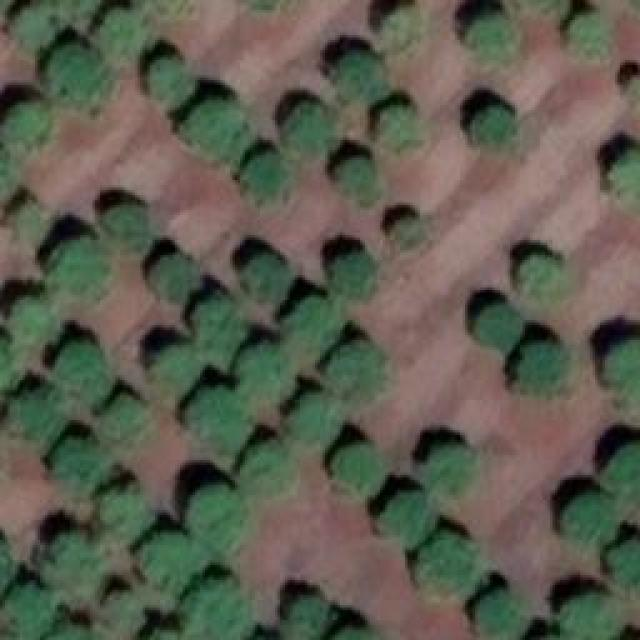Tree: (180, 100, 245, 163), (48, 43, 111, 106), (188, 575, 248, 640), (185, 485, 245, 548), (50, 235, 108, 300), (412, 538, 480, 593), (193, 298, 246, 368), (145, 533, 208, 586), (508, 343, 573, 393), (45, 530, 105, 583), (192, 393, 250, 446), (563, 493, 618, 548), (58, 338, 108, 398), (330, 443, 385, 496), (378, 490, 433, 543), (5, 383, 63, 433), (283, 295, 336, 348), (423, 443, 476, 496), (332, 52, 390, 100), (240, 443, 295, 493), (560, 592, 615, 640), (605, 338, 640, 411), (235, 347, 288, 395), (285, 392, 338, 440), (330, 345, 380, 395), (475, 303, 525, 353), (3, 585, 53, 633), (332, 155, 380, 203), (602, 440, 640, 500), (10, 295, 55, 345), (98, 485, 143, 535), (50, 438, 100, 483), (153, 255, 203, 300), (288, 102, 333, 150), (380, 105, 425, 153), (465, 13, 518, 53), (102, 393, 150, 436), (95, 10, 143, 53), (5, 100, 53, 143), (565, 10, 608, 58), (478, 590, 523, 635), (105, 203, 150, 246), (150, 348, 198, 388), (470, 105, 520, 143), (520, 255, 568, 293), (333, 248, 373, 293), (245, 150, 285, 195), (610, 150, 640, 208), (245, 253, 285, 296), (13, 5, 53, 48), (382, 3, 420, 48), (605, 543, 640, 588), (290, 592, 330, 630), (148, 57, 183, 95), (390, 212, 423, 240), (0, 140, 15, 198), (0, 333, 15, 386)
